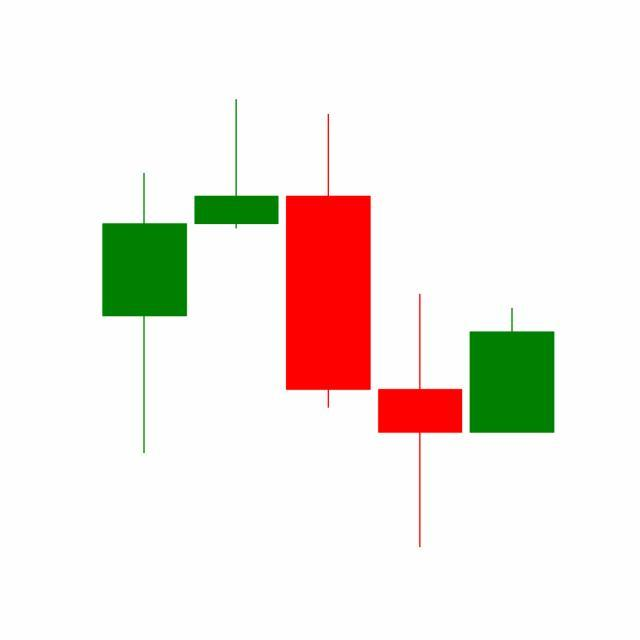Spinning Top: (374, 292, 468, 552)
